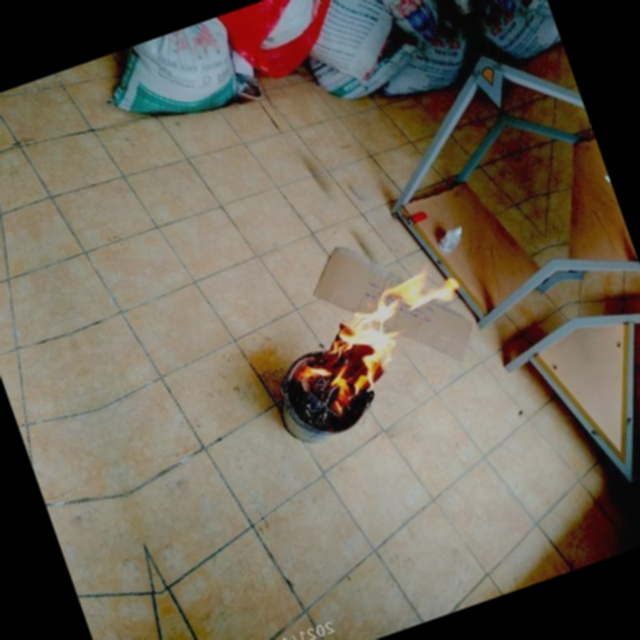fire: (264, 261, 475, 439)
